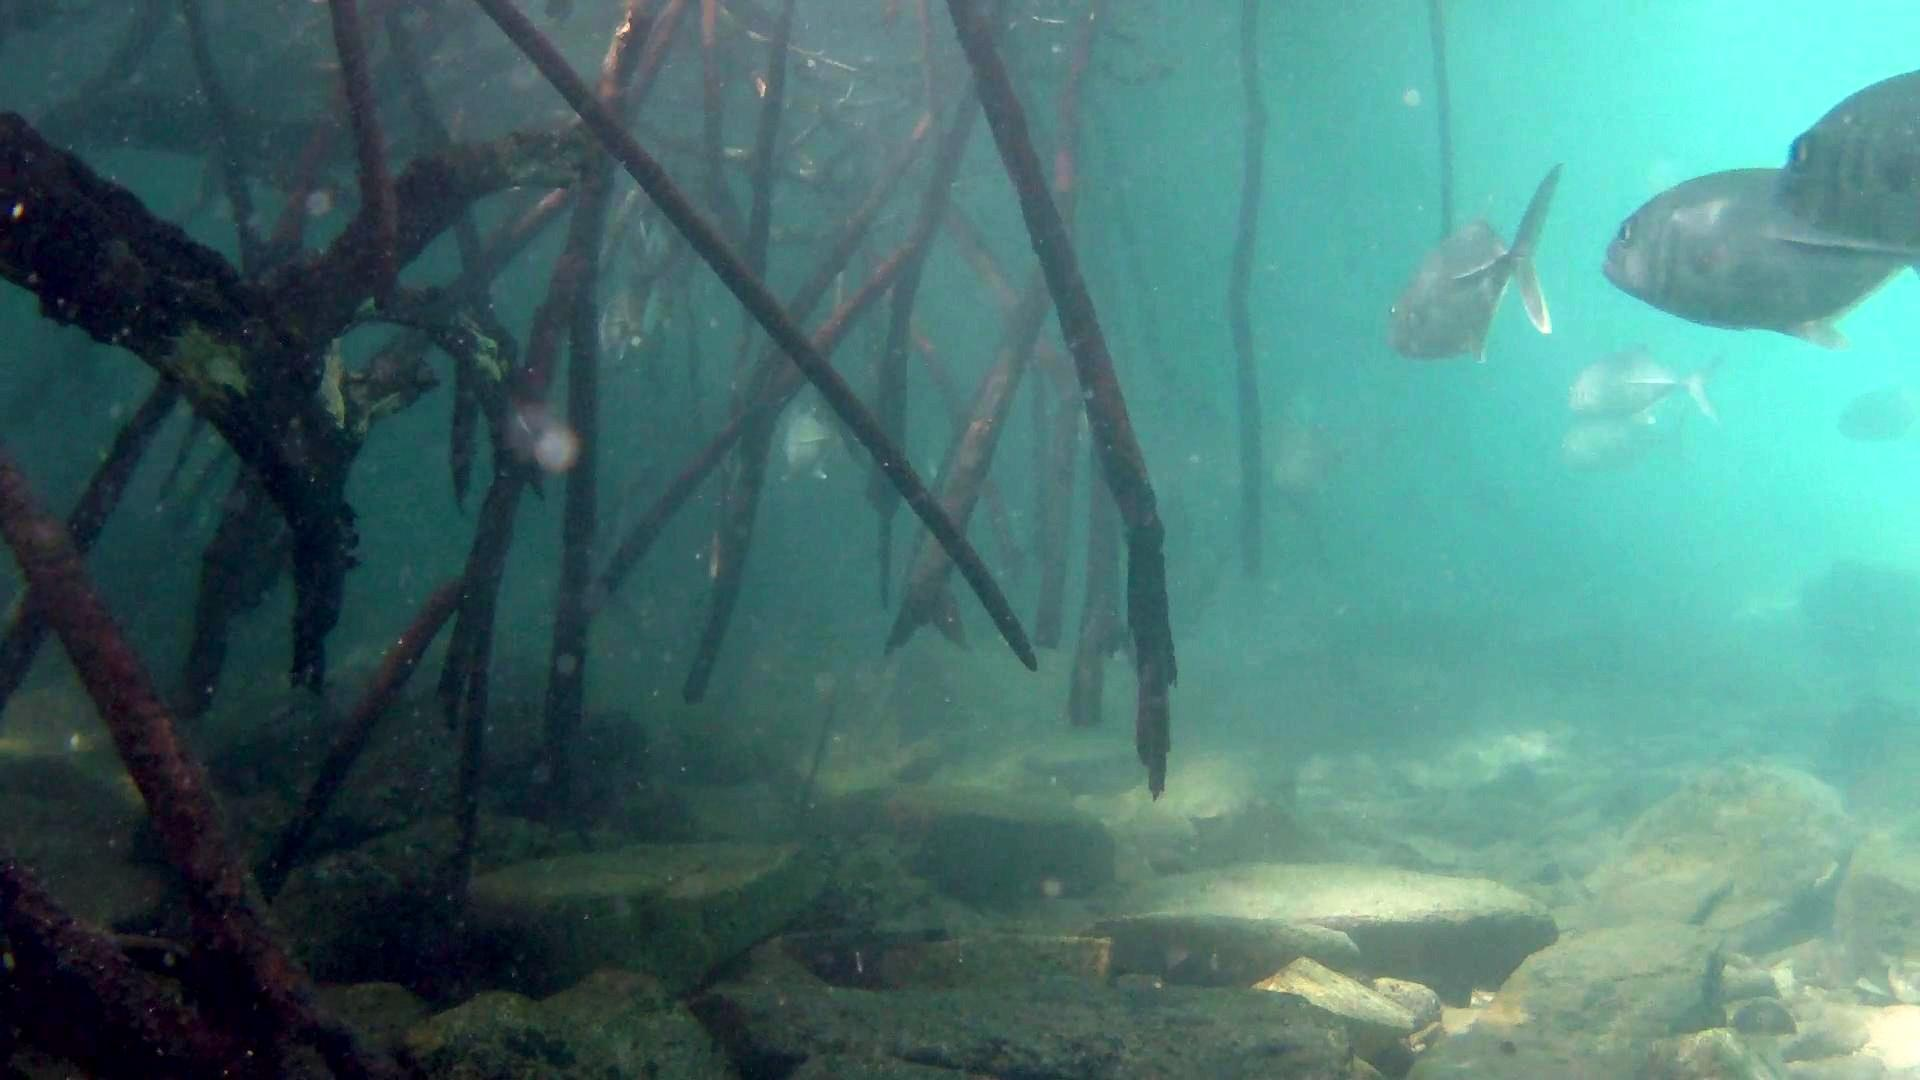caranx: (1598, 153, 1912, 359), (1378, 153, 1571, 377), (1772, 67, 1920, 251)
